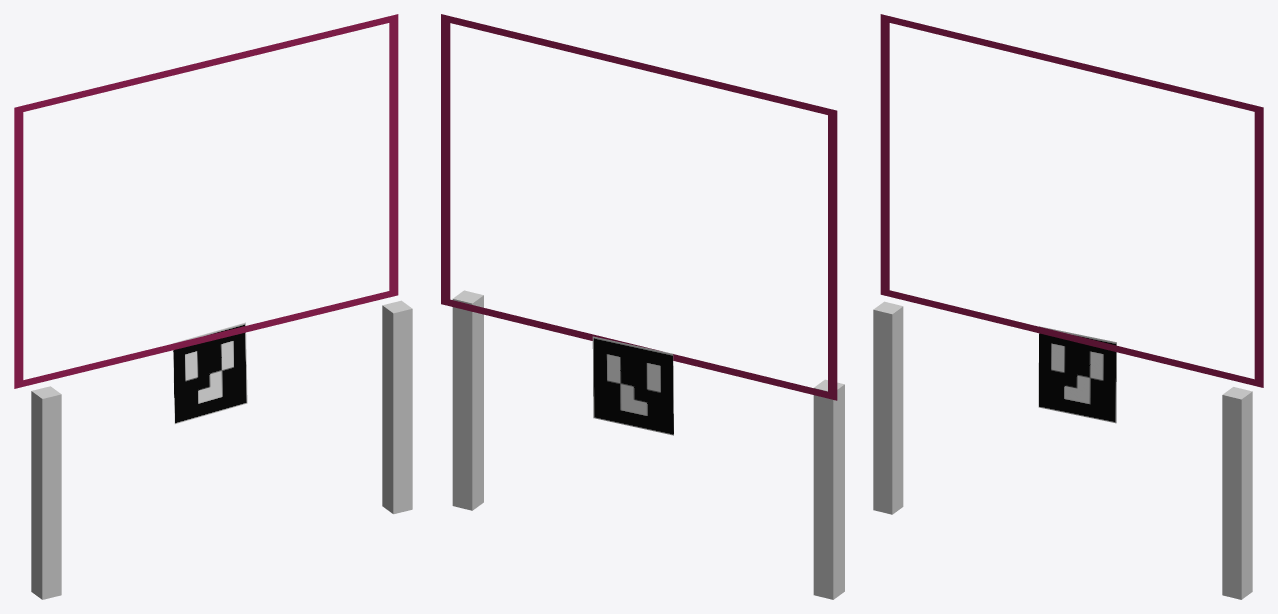
The model's file is gate3.dae.
The picture shows the model from 3 angles, left to right: view 1: azimuth 30°, elevation 25°; view 2: azimuth 150°, elevation 25°; view 3: azimuth 330°, elevation 25°; orthographic projection. The views are drawn at different scales.
Visible parts, largest first — view 1: Gate1.002, left0.5, right0.5, crop3; view 2: Gate1.002, crop3, left0.5, right0.5; view 3: Gate1.002, right0.5, left0.5, crop3.
Part boxes in pixels (bbox=[...]): Gate1.002: bbox=[14, 14, 398, 388]; left0.5: bbox=[382, 300, 412, 514]; right0.5: bbox=[31, 386, 61, 599]; crop3: bbox=[173, 322, 247, 424]; Gate1.002: bbox=[441, 14, 837, 400]; crop3: bbox=[592, 336, 673, 435]; left0.5: bbox=[452, 290, 483, 510]; right0.5: bbox=[813, 379, 844, 599]; Gate1.002: bbox=[880, 14, 1263, 387]; right0.5: bbox=[873, 301, 903, 514]; left0.5: bbox=[1222, 387, 1252, 599]; crop3: bbox=[1038, 326, 1116, 423].
Size of what is drawn, in the model's own units: 1 by 0.0948 by 1.2.
Materials: 3 (1 with a texture image).
